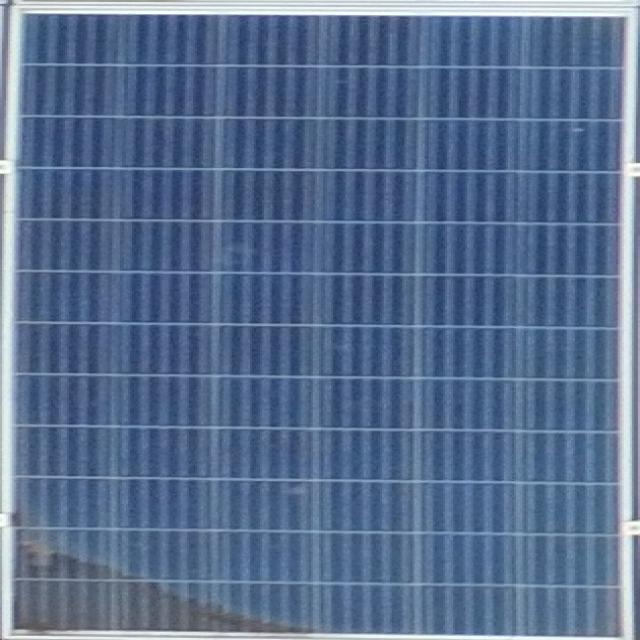Dust: (11, 504, 325, 640)
bird-droppings: (552, 117, 604, 146)
